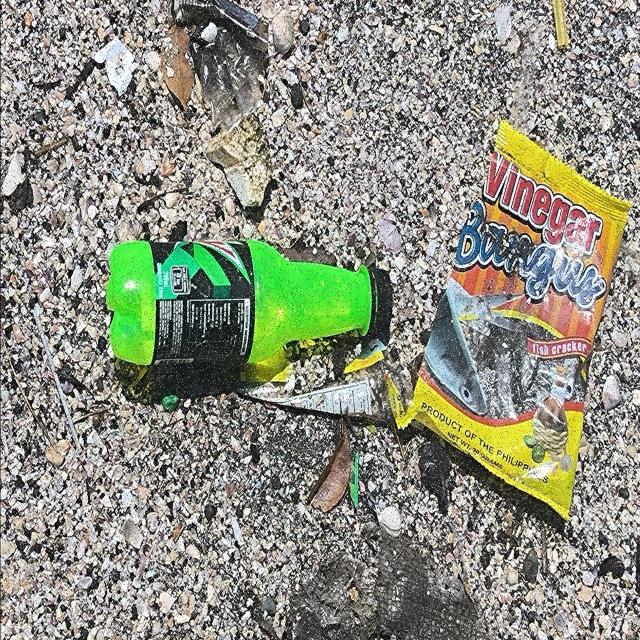plastic_waste: (407, 117, 635, 524), (106, 239, 394, 384)
